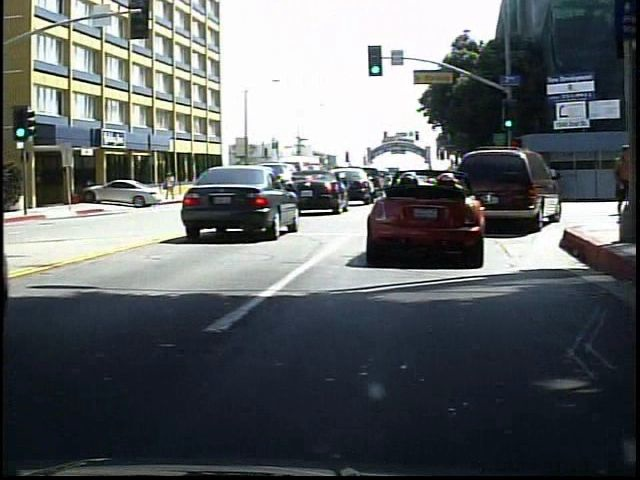person: (587, 136, 624, 223), (159, 170, 173, 202)
